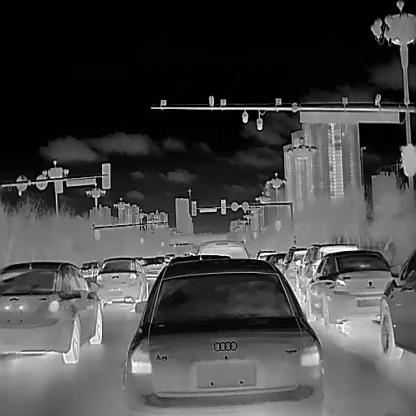car: (120, 256, 327, 414), (0, 258, 103, 364), (305, 248, 398, 331), (378, 244, 415, 359), (294, 242, 360, 306), (92, 254, 150, 307), (280, 244, 314, 291), (195, 239, 250, 266), (134, 255, 164, 280), (78, 261, 98, 276), (266, 253, 286, 267), (254, 248, 275, 260)
